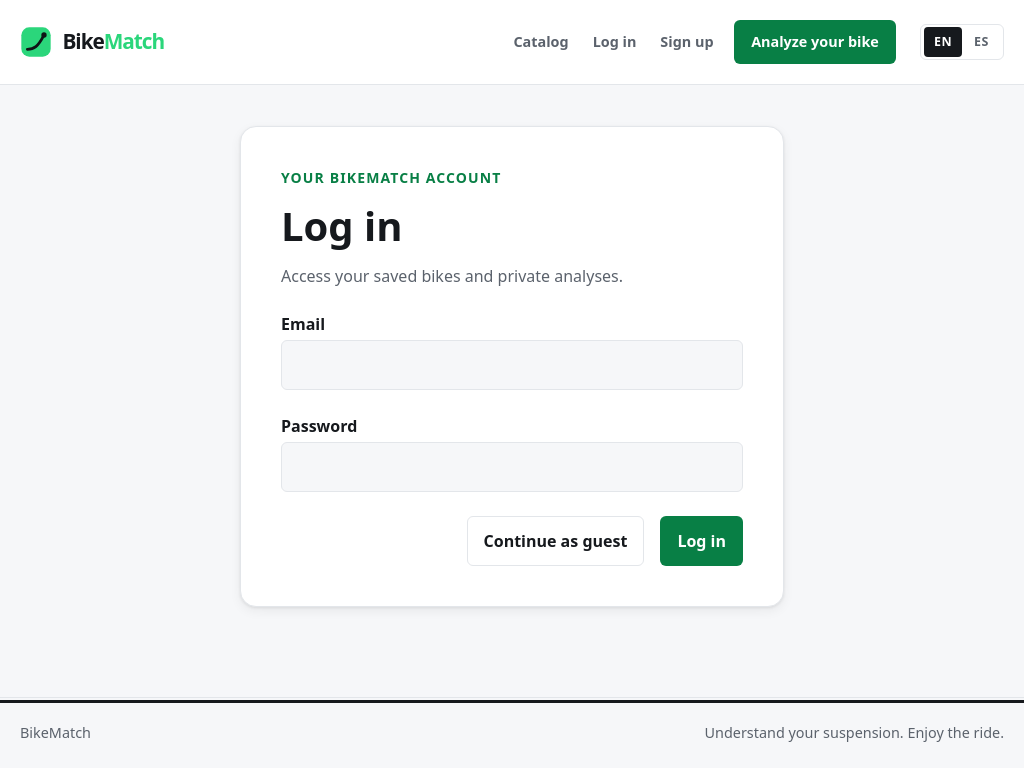
Test: opens my bikes after logging in from the my bikes screen
Expected: the heading "Log in" is shown, [281, 198, 403, 253]
Type "david@example.com" into the field labelled "Email".
click(512, 365); type("david@example.com")  # box [281, 340, 743, 390]
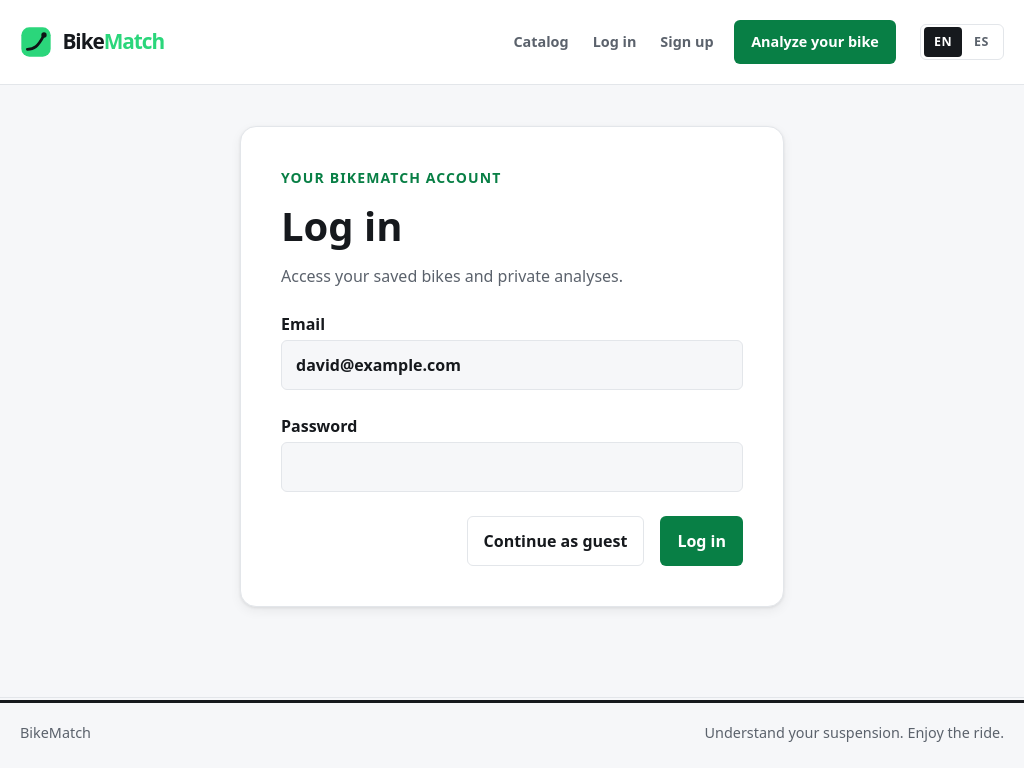
Type "BikeMatch8!" into the password field labelled "Password".
click(512, 467); type("BikeMatch8!")  # box [281, 442, 743, 492]
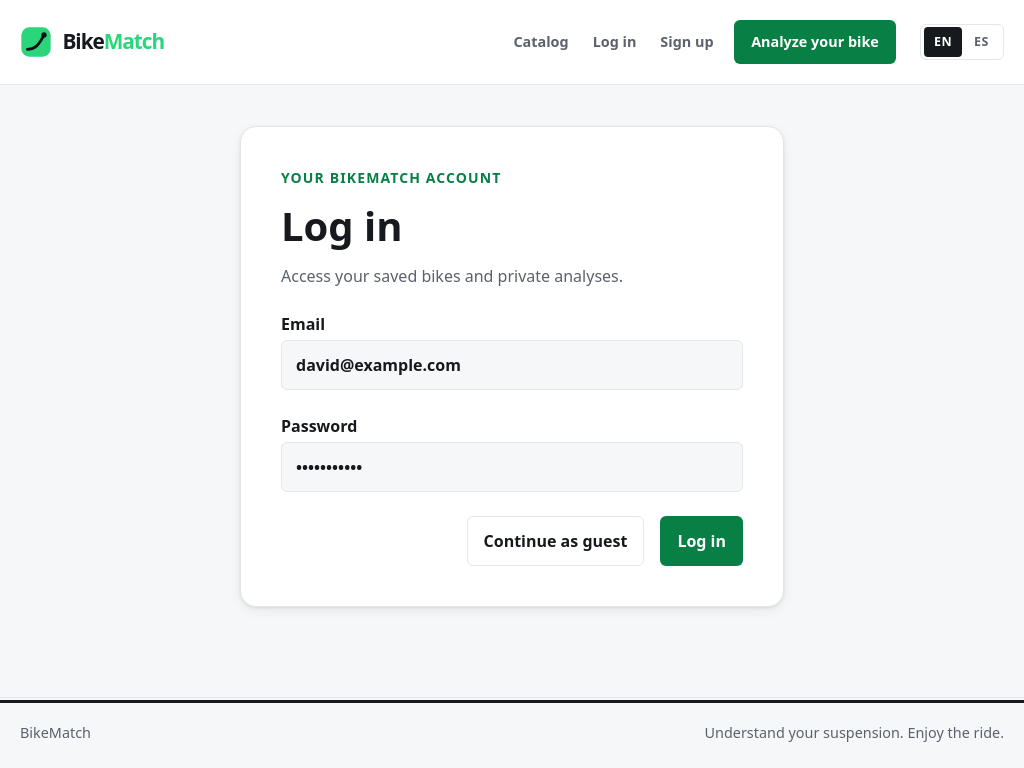
Click the button "Log in".
click(702, 541)  # box [660, 516, 743, 566]
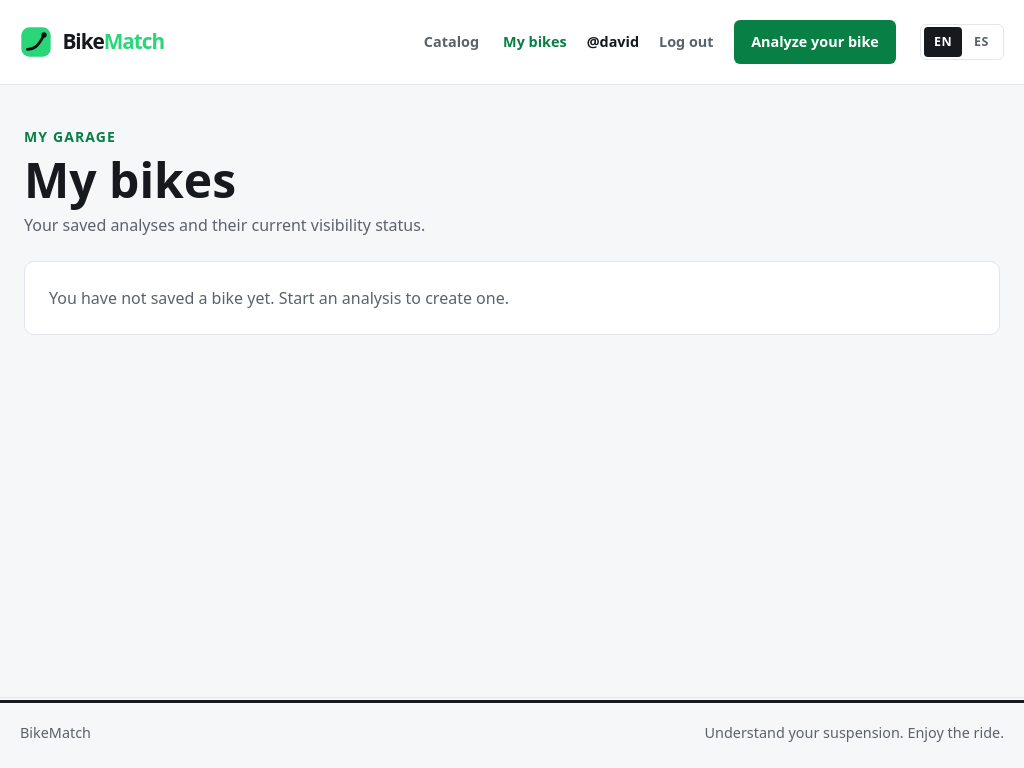
Expected: the heading "My bikes" is shown, [24, 147, 236, 212]
